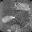people: (1, 15, 15, 24)
